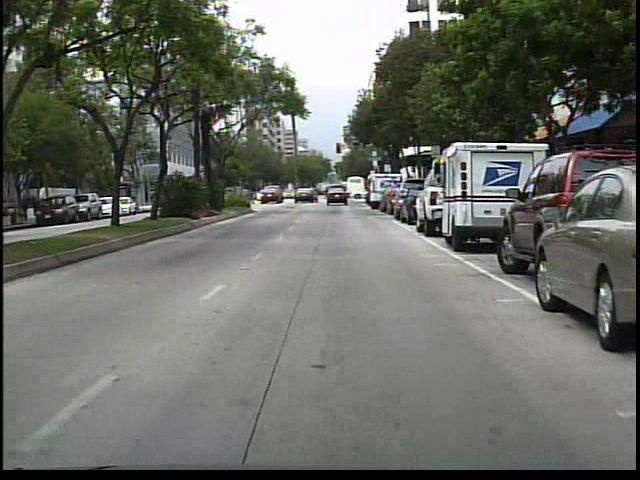person: (321, 183, 335, 203), (296, 182, 297, 204)
